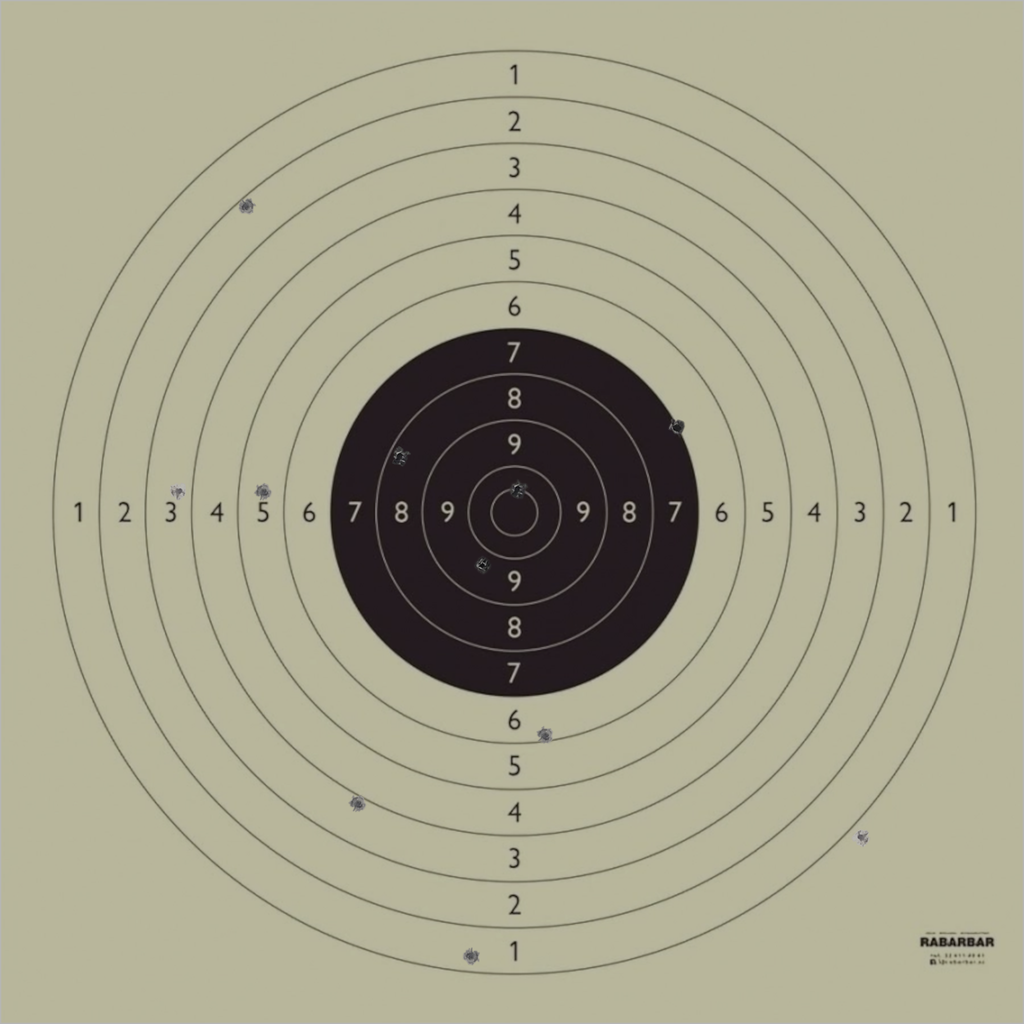0 punktow: (852, 828, 870, 846)
1 punkt: (461, 947, 480, 965)
10 punktow: (509, 480, 527, 498)
2 punkty: (237, 197, 255, 216)
3 punkty: (170, 482, 188, 501)
4 punkty: (349, 795, 367, 813)
5 punktow: (255, 483, 273, 501)
6 punktow: (536, 727, 555, 745)
7 punktow: (667, 419, 686, 437)
8 punktow: (391, 448, 409, 466)
9 punktow: (473, 556, 491, 575)
